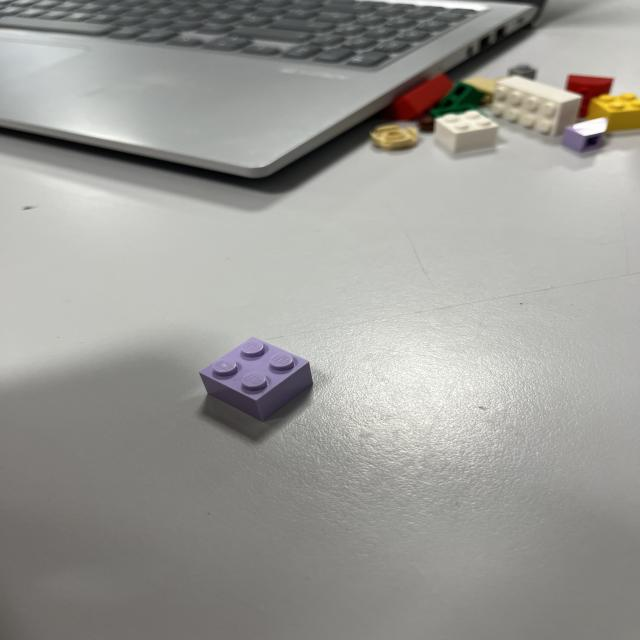C2x2x1: (198, 335, 314, 422)
